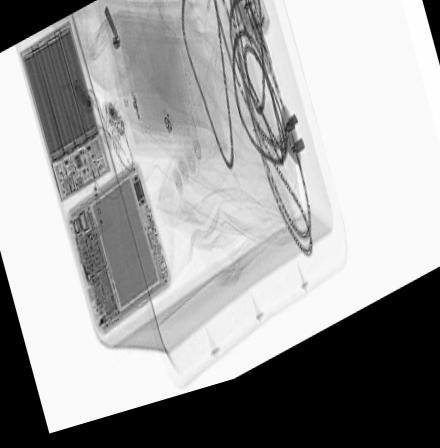Powerbank: (19, 30, 112, 214)
